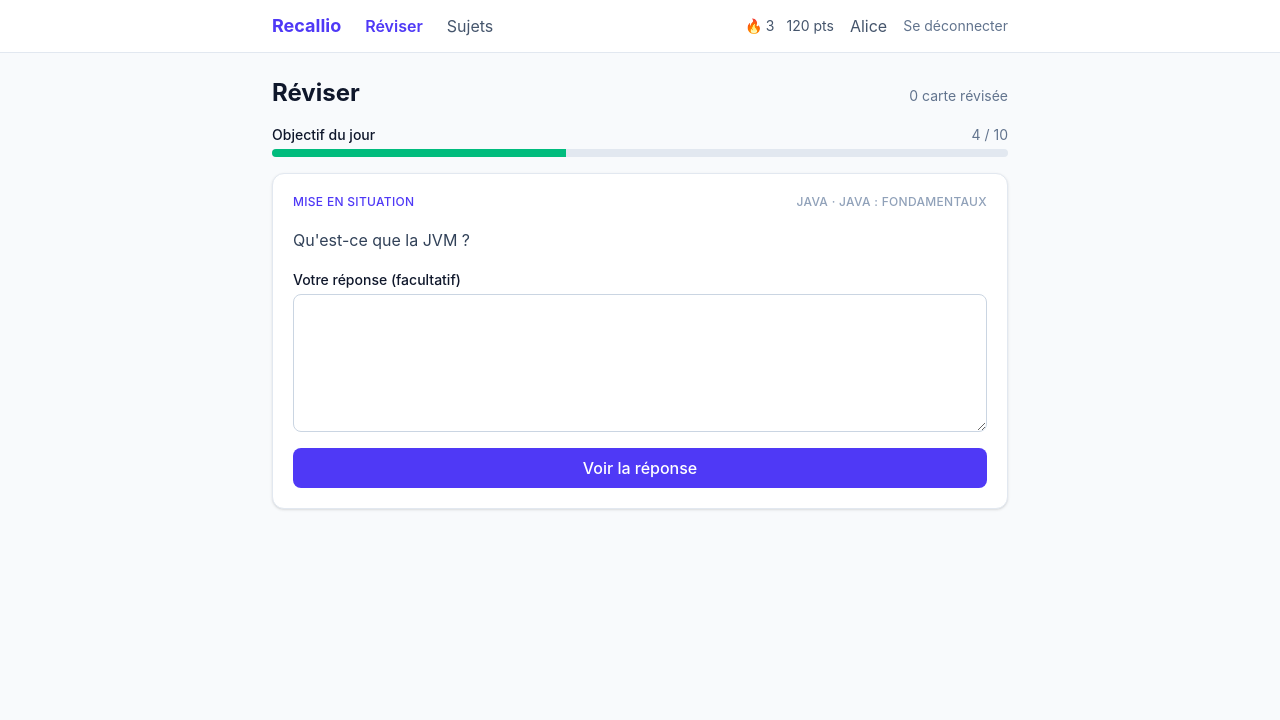
ReviewPage › lets the candidate write an answer to a scenario before revealing the model answer
This screenshot has width=1280, height=720.
Type "Je profile avec JFR." into the text box labelled "Votre réponse (facultatif)" at (640,363), box [293,294,987,432]
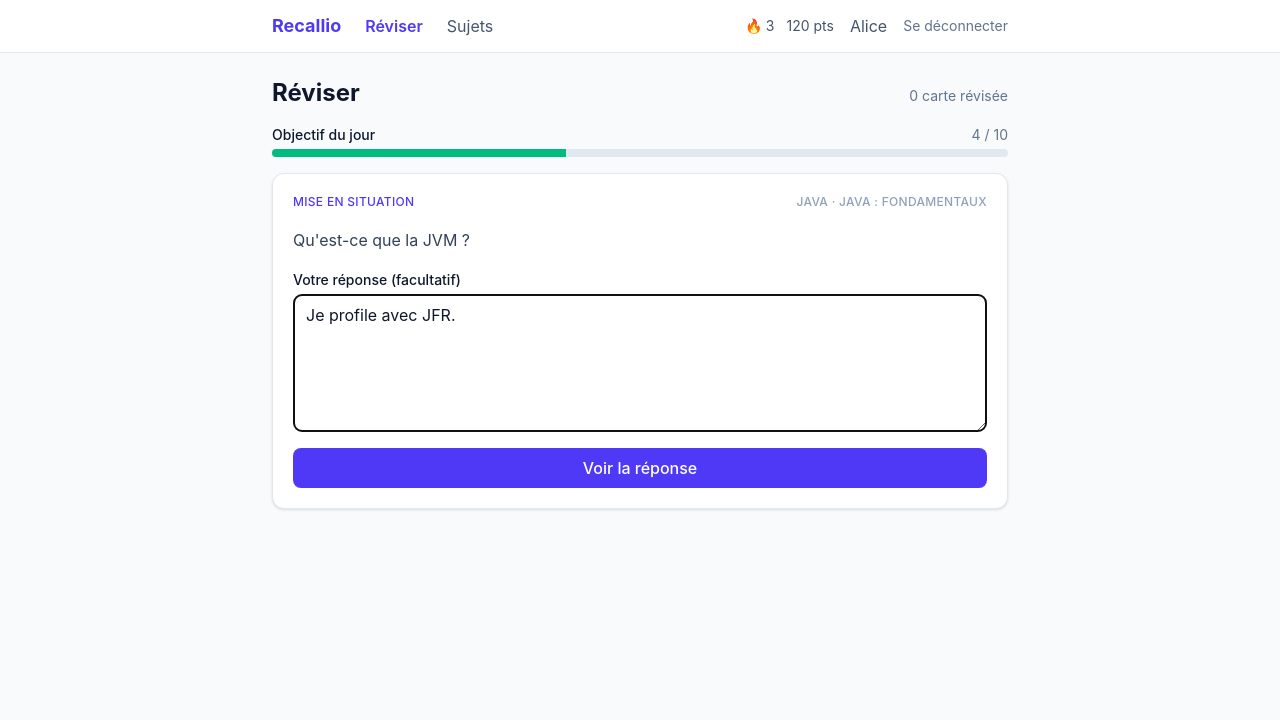
Click the button "Voir la réponse" at (640,468), box [293,448,987,488]
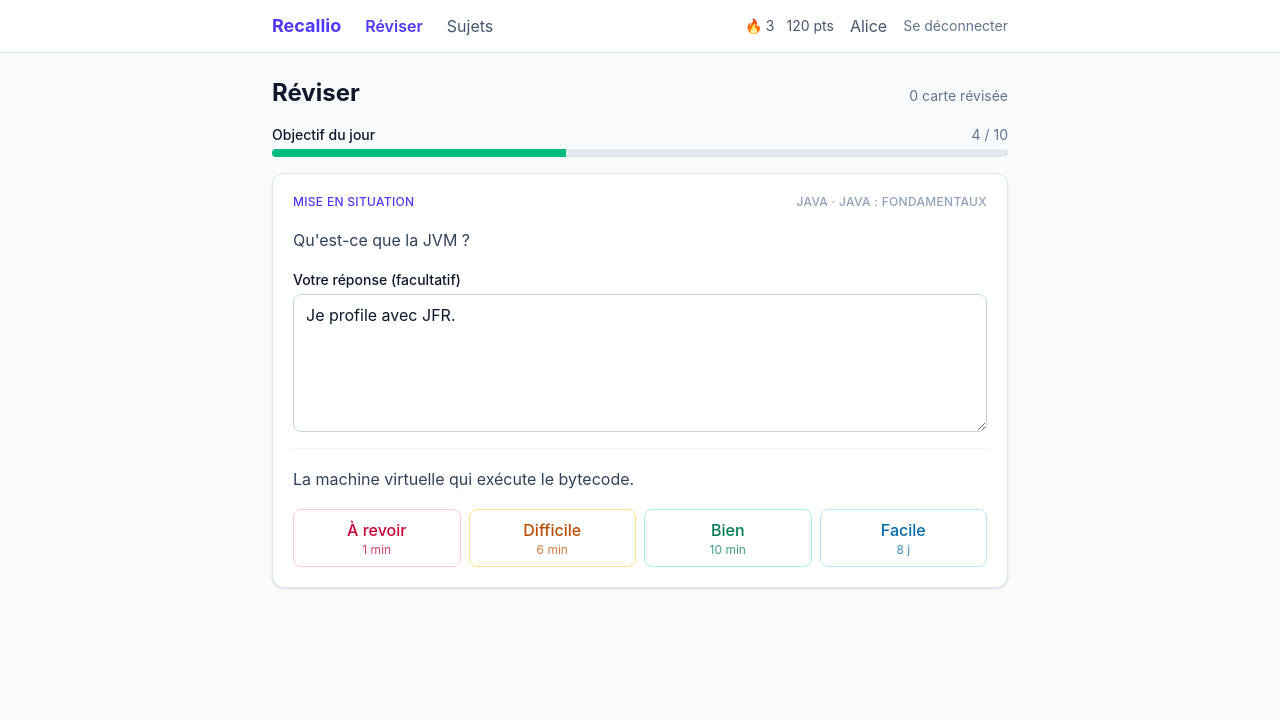
Expected: the text "La machine virtuelle qui exécute le bytecode." is shown, [293,469,634,489]
